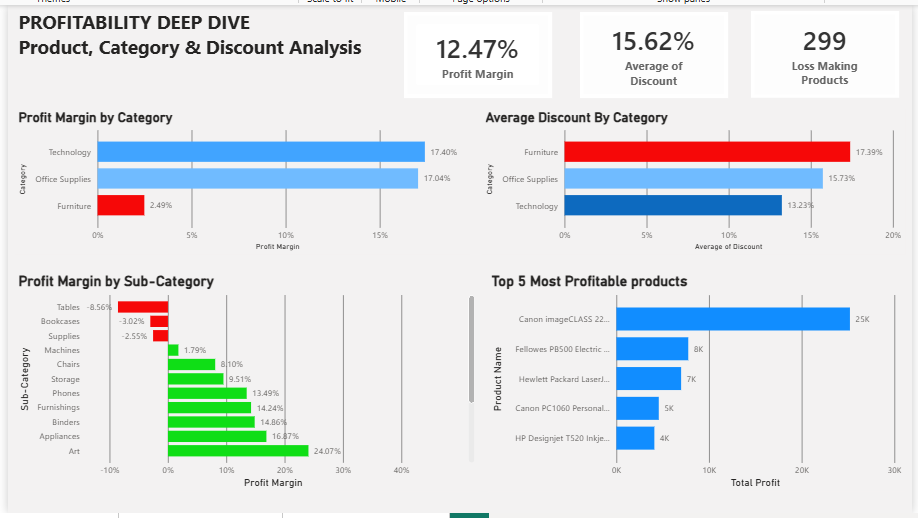

The dashboard page shown, as its layout file describes it:
{"tool":"powerbi","page":{"name":"Profitability Deep Dive","canvas":[1280,720],"ordinal":1},"visuals":[{"type":"textbox","box":[9.9,0,513.1,89.3],"z":0},{"type":"cardVisual","fields":{"Data":["Sales_Clean.Profit Margin"]},"box":[561.3,9.9,209.8,121.9],"z":1000},{"type":"cardVisual","fields":{"Data":["Avg(Sales_Clean.Discount)"]},"box":[810.7,9.9,209.8,121.9],"z":2000},{"type":"cardVisual","fields":{"Data":["Sales_Clean.Loss Making Products"]},"box":[1053.1,8.5,209.8,123.3],"z":3000},{"type":"clusteredBarChart","fields":{"Category":["Sales_Clean.Category"],"Y":["Sales_Clean.Profit Margin"]},"box":[9.9,147.4,644.9,205.5],"z":4000},{"type":"clusteredBarChart","title":"Average Discount By Category","fields":{"Category":["Sales_Clean.Category"],"Y":["Avg(Sales_Clean.Discount)"]},"box":[671.8,147.4,599.5,205.5],"z":5000},{"type":"clusteredBarChart","fields":{"Category":["Sales_Clean.Sub-Category"],"Y":["Sales_Clean.Profit Margin"]},"box":[9.9,379.8,656.2,310.4],"z":6000},{"type":"clusteredBarChart","title":"Top 5 Most Profitable products","fields":{"Category":["Sales_Clean.Product Name"],"Y":["Sales_Clean.Total Profit"]},"box":[680.3,379.8,591,310.4],"z":7000}]}

Visuals, with their boxes on the page's 1280x720 design canvas (x1, y1, x2, y2). These are canvas units, not pixel positions in the 918x518 screenshot, which may show the page scaled, cropped or inside an application window:
textbox: rect(10, 0, 523, 89)
cardVisual - Sales_Clean.Profit Margin: rect(561, 10, 771, 132)
cardVisual - Avg(Sales_Clean.Discount): rect(811, 10, 1020, 132)
cardVisual - Sales_Clean.Loss Making Products: rect(1053, 8, 1263, 132)
clusteredBarChart - Sales_Clean.Category x Sales_Clean.Profit Margin: rect(10, 147, 655, 353)
"Average Discount By Category" clusteredBarChart: rect(672, 147, 1271, 353)
clusteredBarChart - Sales_Clean.Sub-Category x Sales_Clean.Profit Margin: rect(10, 380, 666, 690)
"Top 5 Most Profitable products" clusteredBarChart: rect(680, 380, 1271, 690)
